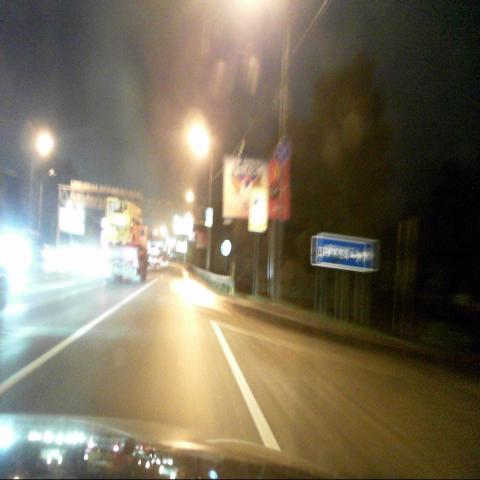3_27: (277, 140, 290, 161)
